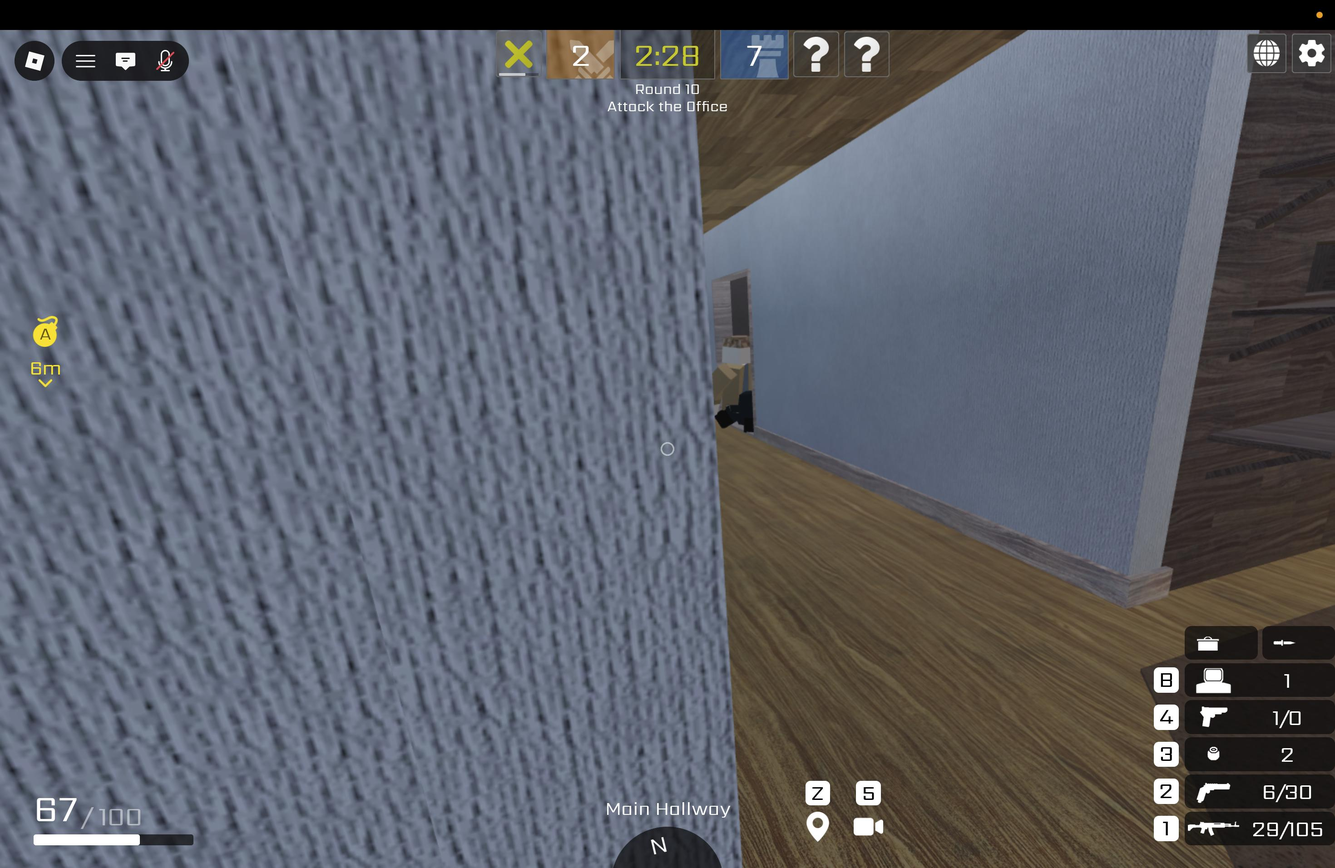enemy: (710, 336, 754, 434)
